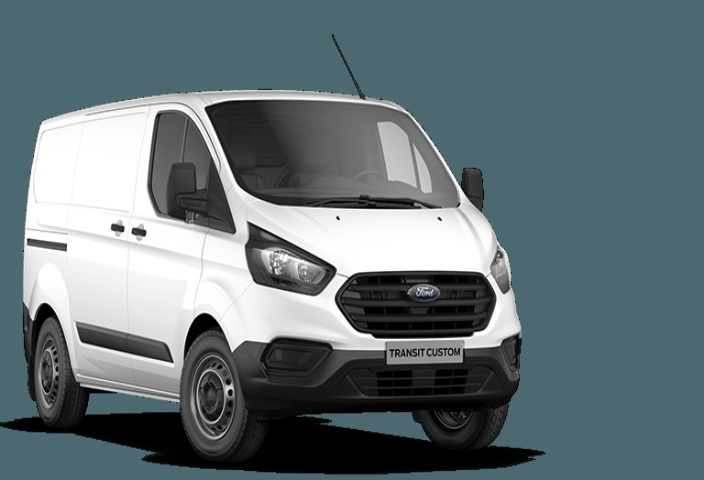van: (24, 81, 529, 460)
